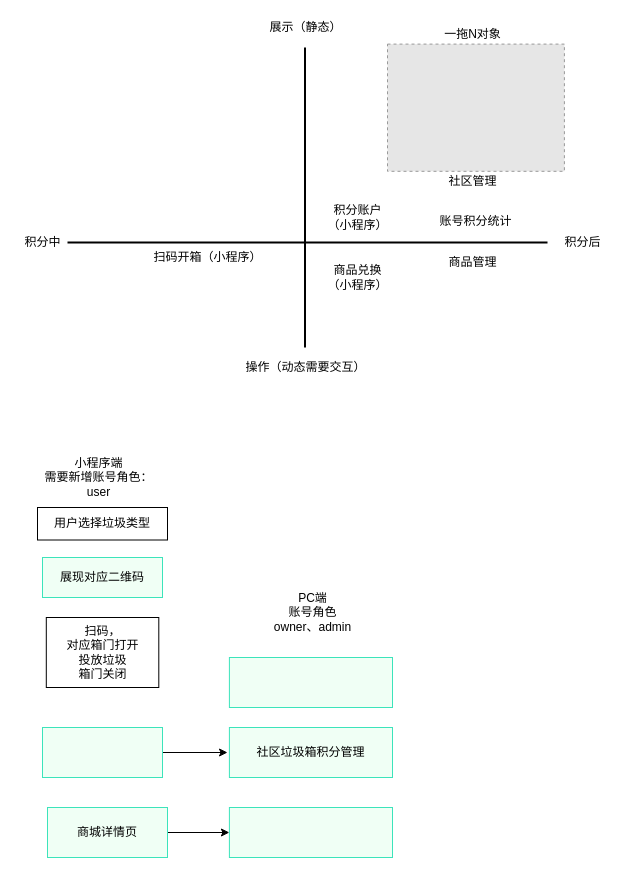
This 624x875 diagram has some shape labels left out. Grey dashed boxes stand in for pictures. Each missing label, with the box of its shape:
商品管理页: (228, 806, 392, 858)
提醒用户获得积分，引导用户去商城兑换: (42, 726, 162, 778)
账号积分统计数据页: (228, 656, 392, 708)
